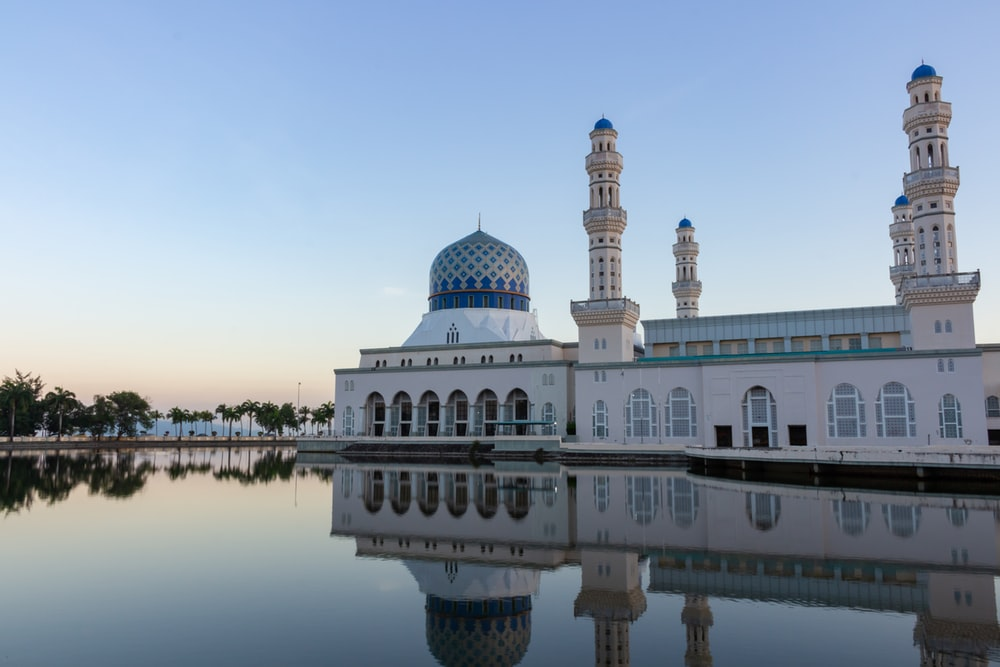Mosque: (361, 53, 974, 488)
